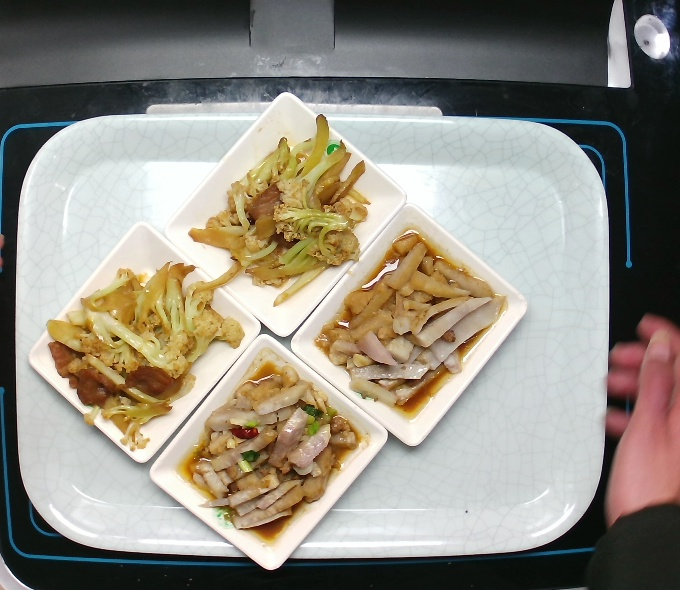wcq-QiuCaiChaoRou: (40, 262, 250, 448), (188, 112, 382, 302)
wcq-YuTou: (168, 352, 369, 548), (316, 227, 517, 423)
